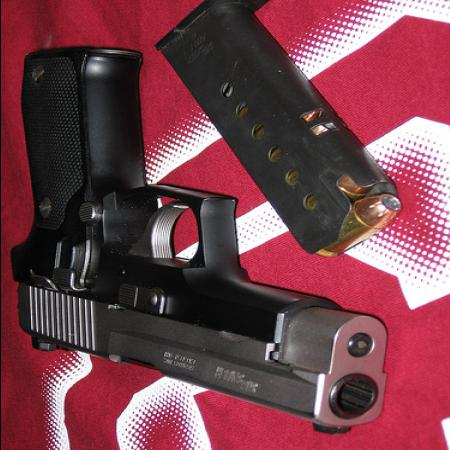Pistol: (7, 49, 384, 434)
